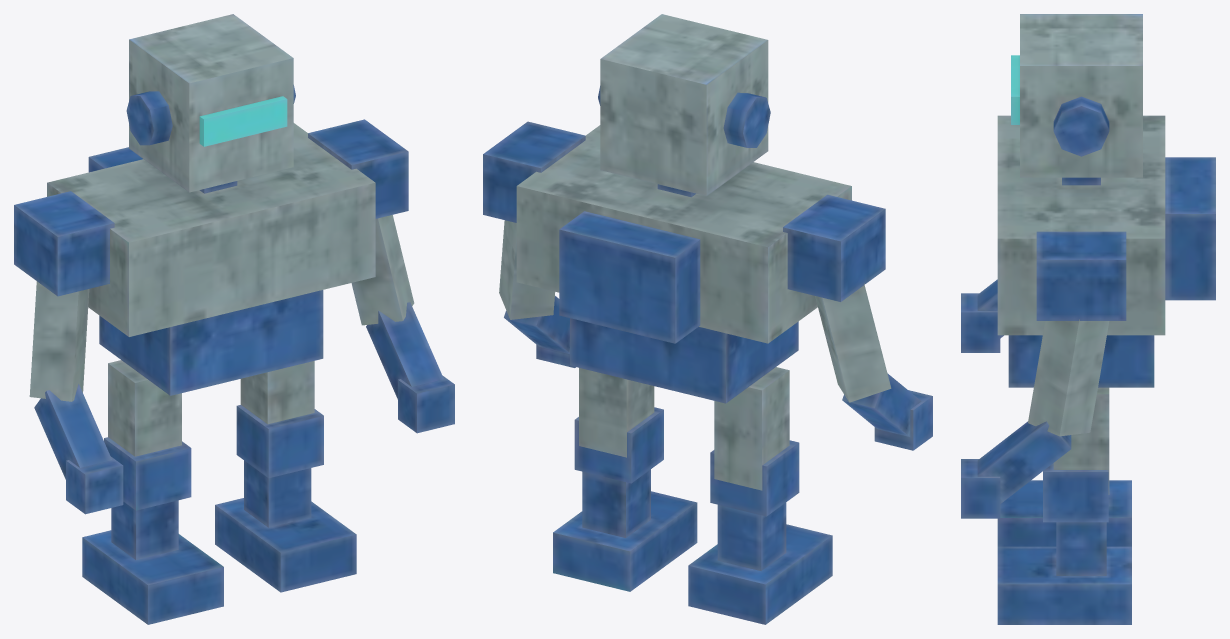
File: robot_t3.glb
3 renders of one model, left to right at view 1: azimuth 30°, elevation 25°; view 2: azimuth 150°, elevation 25°; view 3: azimuth 270°, elevation 25°, orthographic. The views are drawn at different scales.
Parts seen in each view (by area): view 1: te_res_robot_t3; view 2: te_res_robot_t3; view 3: te_res_robot_t3.
Boxes of the visible parts, x1,y1,x2,y2 form: te_res_robot_t3: [14, 14, 454, 624]; te_res_robot_t3: [483, 14, 932, 624]; te_res_robot_t3: [961, 14, 1215, 624].
Bounding box in the file's own units: 0.4058 × 0.525 × 0.2275.
Materials: 1 (1 with a texture image).
